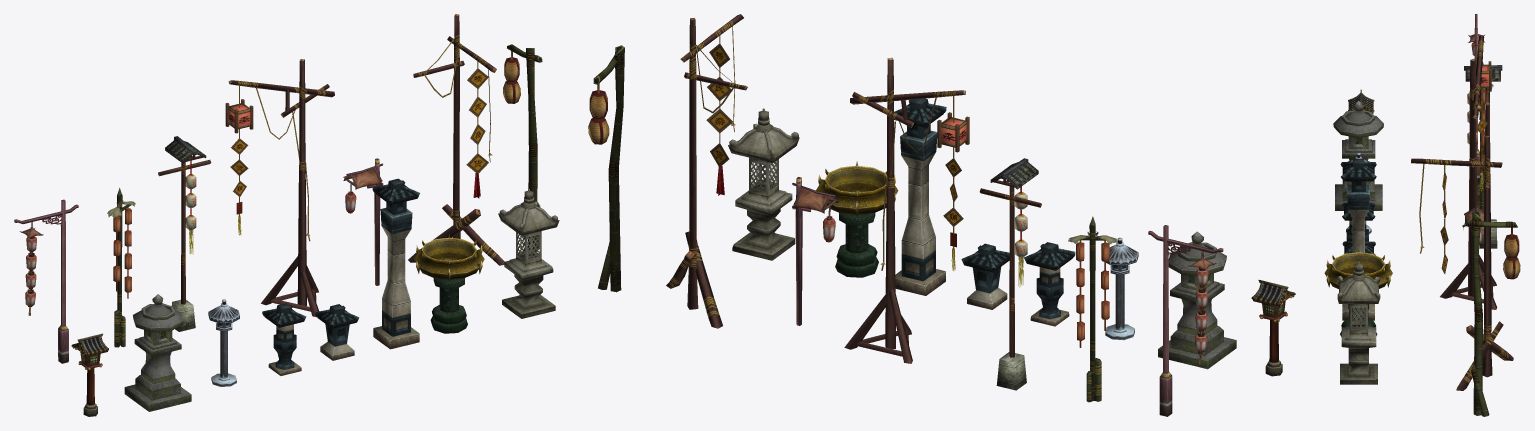
The model's file is Lanterns.FBX.
3 renders of one model, left to right at view 1: azimuth 30°, elevation 25°; view 2: azimuth 150°, elevation 25°; view 3: azimuth 270°, elevation 25°, orthographic. The views are drawn at different scales.
Parts seen in each view (by area): view 1: Lantern14, Lantern07, Lantern02, Lantern12, Lantern10, Lantern03, Lantern15, Lantern11, Lantern01, Lantern16, Lantern05, Lantern17 (+3 smaller); view 2: Lantern14, Lantern12, Lantern07, Lantern10, Lantern03, Lantern02, Lantern11, Lantern15, Lantern01, Lantern16, Lantern05, Lantern13 (+3 smaller); view 3: Lantern10, Lantern12, Lantern14, Lantern11, Lantern02, Lantern07, Lantern03, Lantern15, Lantern16, Lantern05, Lantern01, Lantern09 (+2 smaller).
Boxes of the visible parts, bbox=[...] form: Lantern14: bbox=[225, 59, 334, 316]; Lantern07: bbox=[372, 178, 419, 349]; Lantern02: bbox=[124, 294, 191, 411]; Lantern12: bbox=[408, 14, 504, 265]; Lantern10: bbox=[498, 189, 559, 318]; Lantern03: bbox=[414, 234, 484, 333]; Lantern15: bbox=[158, 136, 211, 331]; Lantern11: bbox=[503, 44, 542, 251]; Lantern01: bbox=[14, 199, 78, 363]; Lantern16: bbox=[107, 187, 135, 347]; Lantern05: bbox=[262, 303, 306, 375]; Lantern17: bbox=[315, 304, 359, 360]; Lantern14: bbox=[844, 57, 969, 363]; Lantern12: bbox=[666, 14, 747, 328]; Lantern07: bbox=[894, 98, 946, 295]; Lantern10: bbox=[728, 108, 799, 260]; Lantern03: bbox=[816, 161, 898, 277]; Lantern02: bbox=[1158, 231, 1236, 369]; Lantern11: bbox=[588, 45, 624, 292]; Lantern15: bbox=[979, 158, 1041, 390]; Lantern01: bbox=[1148, 225, 1223, 416]; Lantern16: bbox=[1068, 216, 1117, 402]; Lantern05: bbox=[1024, 242, 1075, 326]; Lantern13: bbox=[792, 177, 838, 325]; Lantern10: bbox=[1337, 261, 1380, 384]; Lantern12: bbox=[1411, 135, 1513, 390]; Lantern14: bbox=[1440, 35, 1497, 309]; Lantern11: bbox=[1465, 210, 1520, 416]; Lantern02: bbox=[1333, 100, 1383, 210]; Lantern07: bbox=[1340, 158, 1376, 320]; Lantern03: bbox=[1324, 249, 1392, 336]; Lantern15: bbox=[1464, 65, 1502, 248]; Lantern16: bbox=[1476, 62, 1493, 210]; Lantern05: bbox=[1342, 202, 1375, 241]; Lantern01: bbox=[1468, 14, 1484, 184]; Lantern09: bbox=[1348, 89, 1374, 113].
Bounding box in the file's own units: 1041 × 474 × 345.
